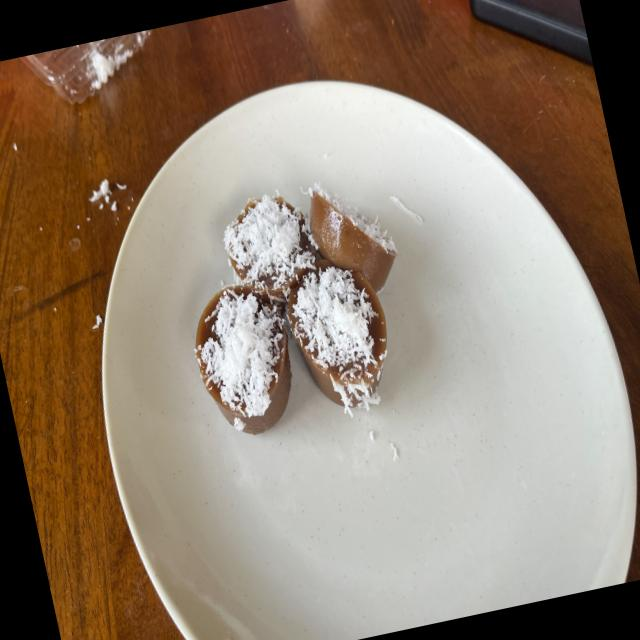Kuih lompang: (286, 258, 387, 412), (195, 284, 291, 434), (223, 195, 317, 314), (308, 182, 396, 292)
